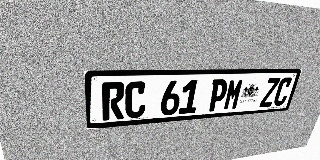1: (178, 80, 201, 114)
6: (160, 80, 182, 116)
C: (125, 81, 147, 119), (272, 77, 293, 106)
M: (223, 79, 245, 110)
P: (207, 79, 229, 112)
R: (102, 82, 125, 121)
Z: (259, 78, 281, 107)
